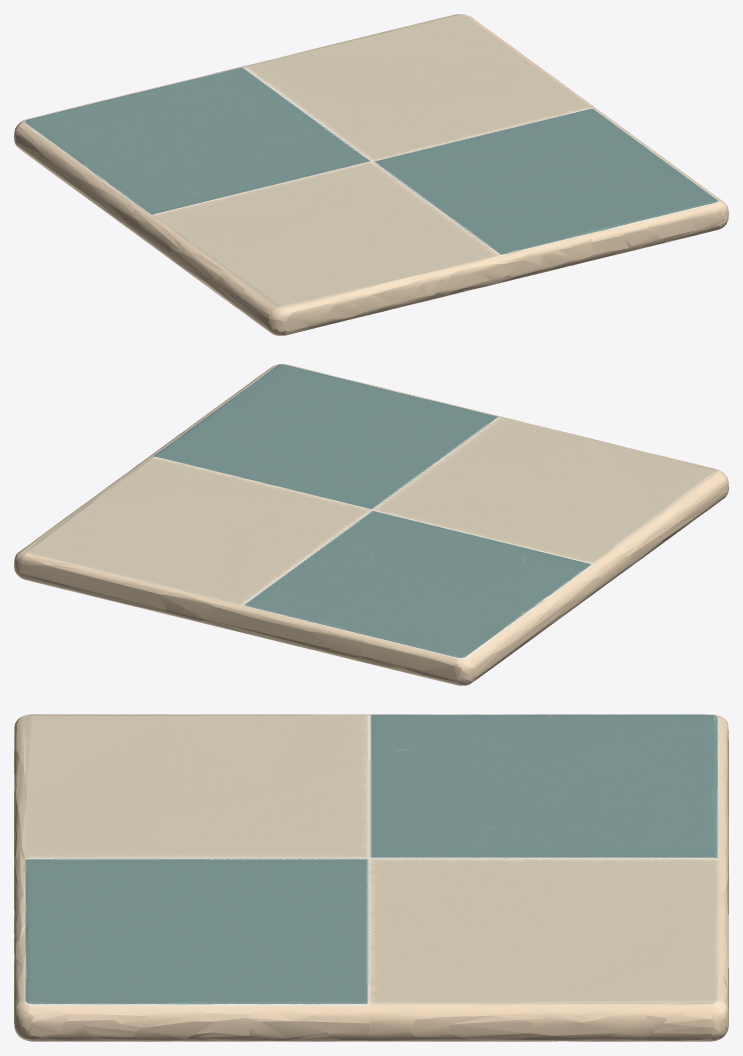
The model's file is restaurant-checker-floor.glb.
The picture shows the model from 3 angles, top to bottom: view 1: azimuth 30°, elevation 25°; view 2: azimuth 150°, elevation 25°; view 3: azimuth 270°, elevation 25°; orthographic projection. The views are drawn at different scales.
Parts seen in each view (by area): view 1: Mesh_0; view 2: Mesh_0; view 3: Mesh_0.
Boxes of the visible parts, x1,y1,x2,y2 form: Mesh_0: [14, 14, 728, 335]; Mesh_0: [14, 364, 728, 685]; Mesh_0: [14, 714, 728, 1041].
Size of the model in its own units: 1 by 0.06 by 1.
Materials: 1 (1 with a texture image).
